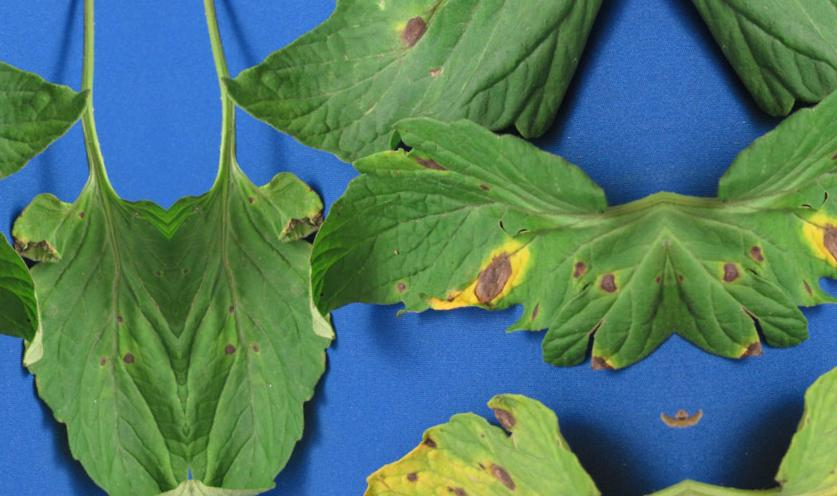Tomato Early blight leaf: (294, 107, 678, 399), (199, 0, 657, 171), (161, 133, 366, 496), (328, 386, 700, 496)
